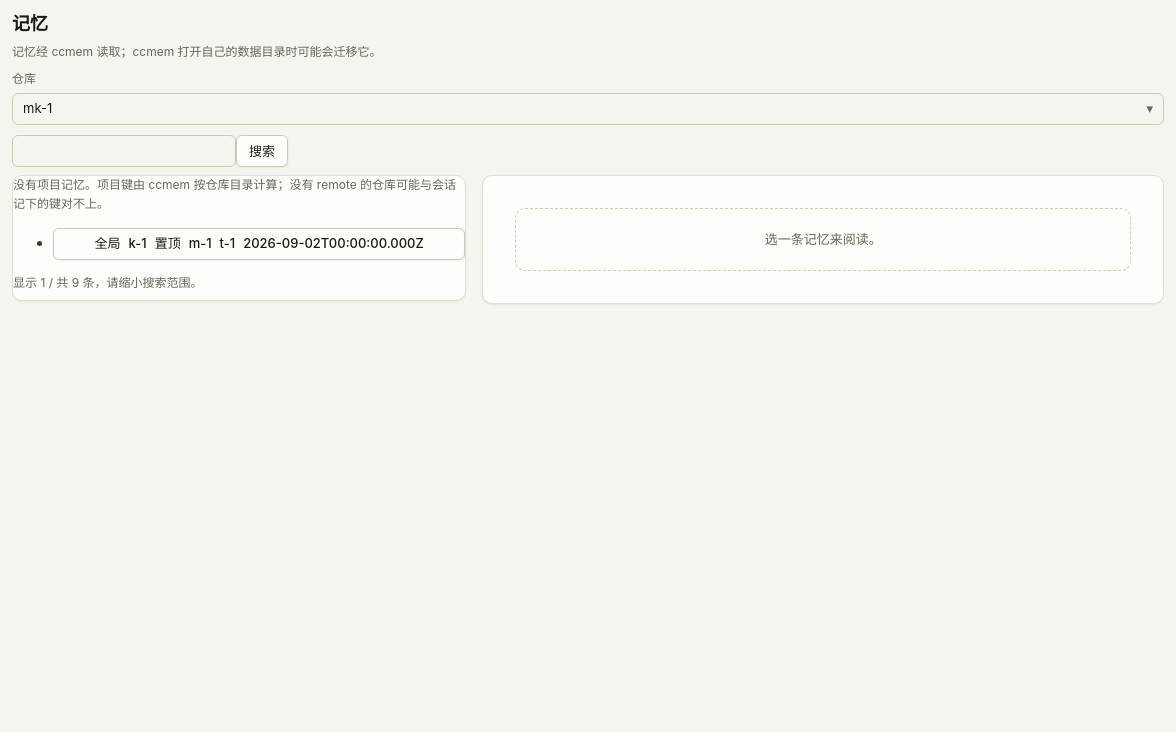
everything visible goes through t (spec §6.5) › memory: the same fixture in Chinese shows 项目键
The width and height of the screenshot is (1176, 732).
Click the button with class "memory-row".
click(259, 244)  # box [53, 228, 465, 260]
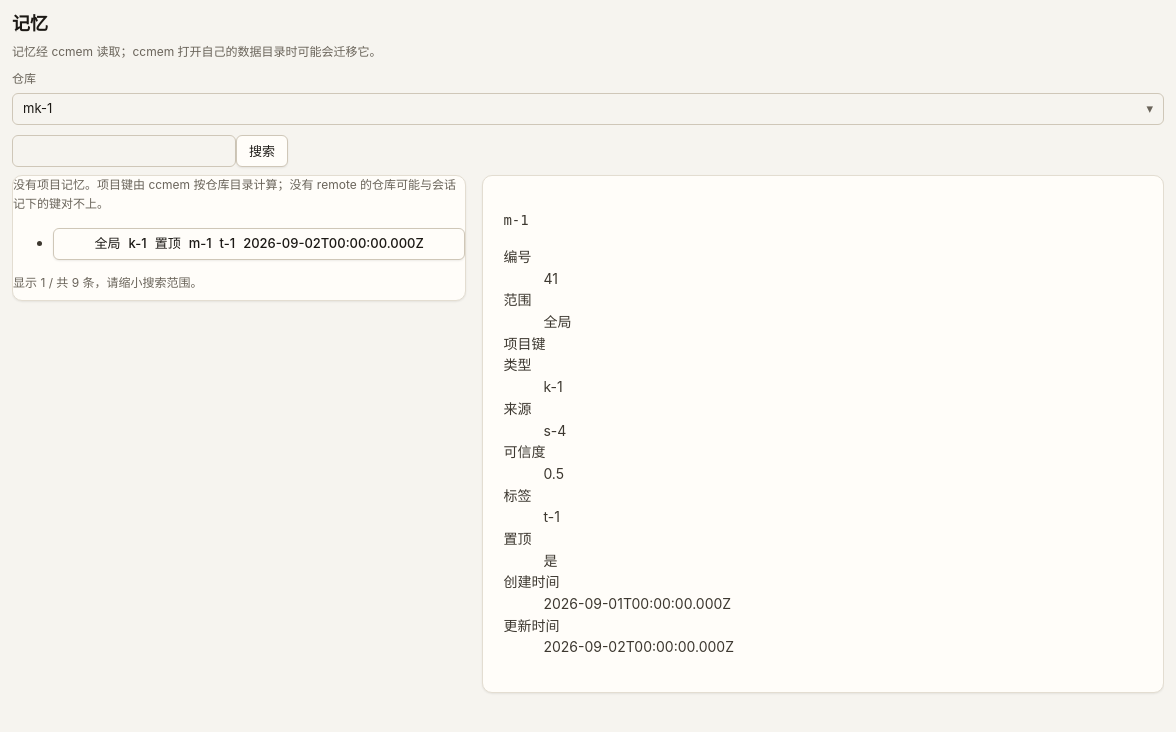
Check: the text "项目键" is shown, box [13, 176, 465, 214]
Check: the text with test id "memory-content" is shown, box [503, 212, 529, 228]
